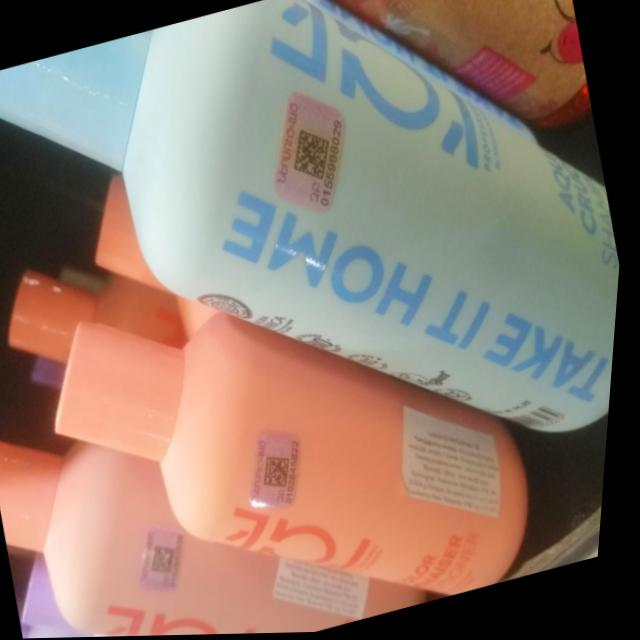datamatrix: (285, 122, 344, 189), (263, 449, 306, 496), (152, 541, 191, 579)
